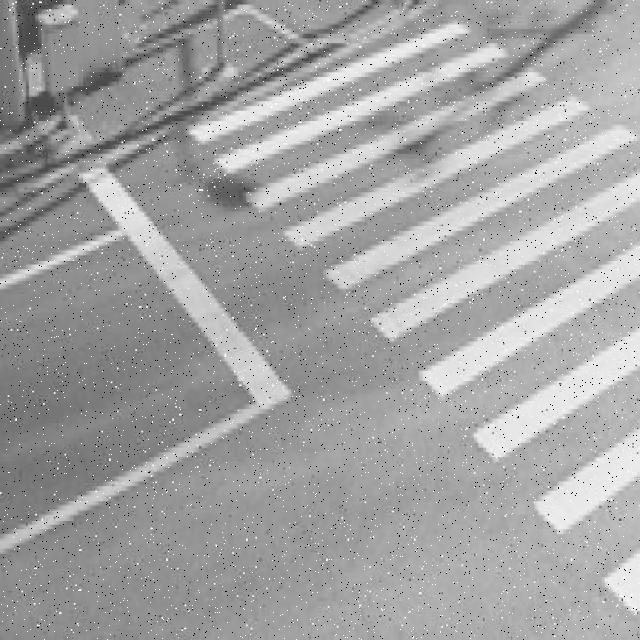Pedestrian crosswalk: (185, 9, 640, 616)
